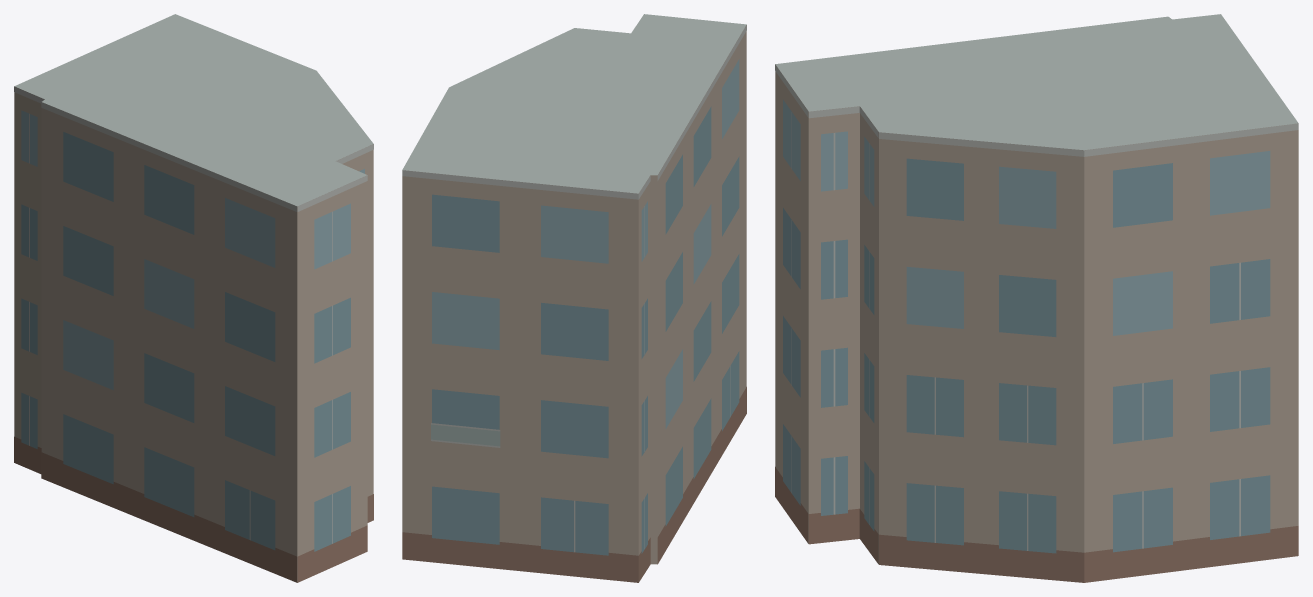
File: survey-upis-32958023.glb
The picture shows the model from 3 angles, left to right: view 1: azimuth 30°, elevation 25°; view 2: azimuth 150°, elevation 25°; view 3: azimuth 270°, elevation 25°; orthographic projection. The views are drawn at different scales.
Visible parts, largest first — view 1: survey-upis-32958023.tmp; view 2: survey-upis-32958023.tmp; view 3: survey-upis-32958023.tmp.
Boxes of the visible parts, box(x1,y1,x2,y2) form: survey-upis-32958023.tmp: box(14, 14, 373, 582); survey-upis-32958023.tmp: box(402, 14, 746, 582); survey-upis-32958023.tmp: box(775, 14, 1298, 582).
Bounding box in the file's own units: 10.68 × 15.8 × 17.34.
